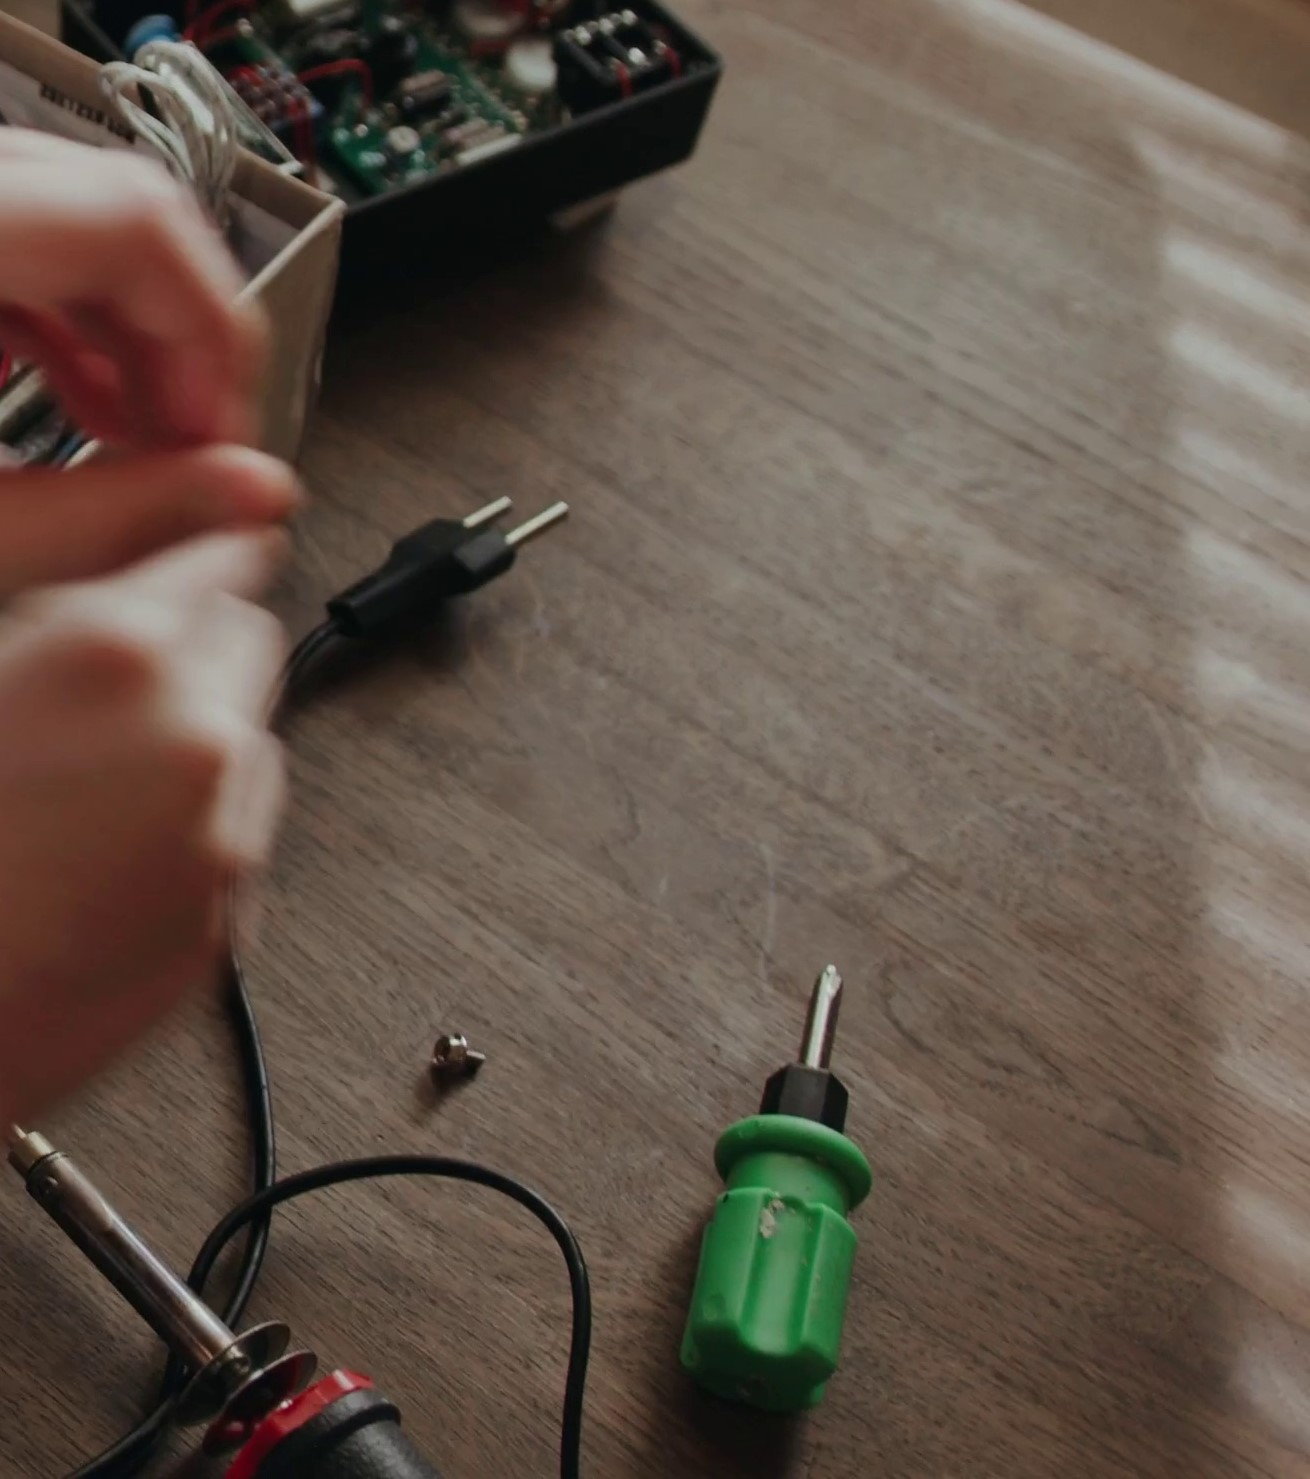screwdriver: (664, 948, 881, 1420)
